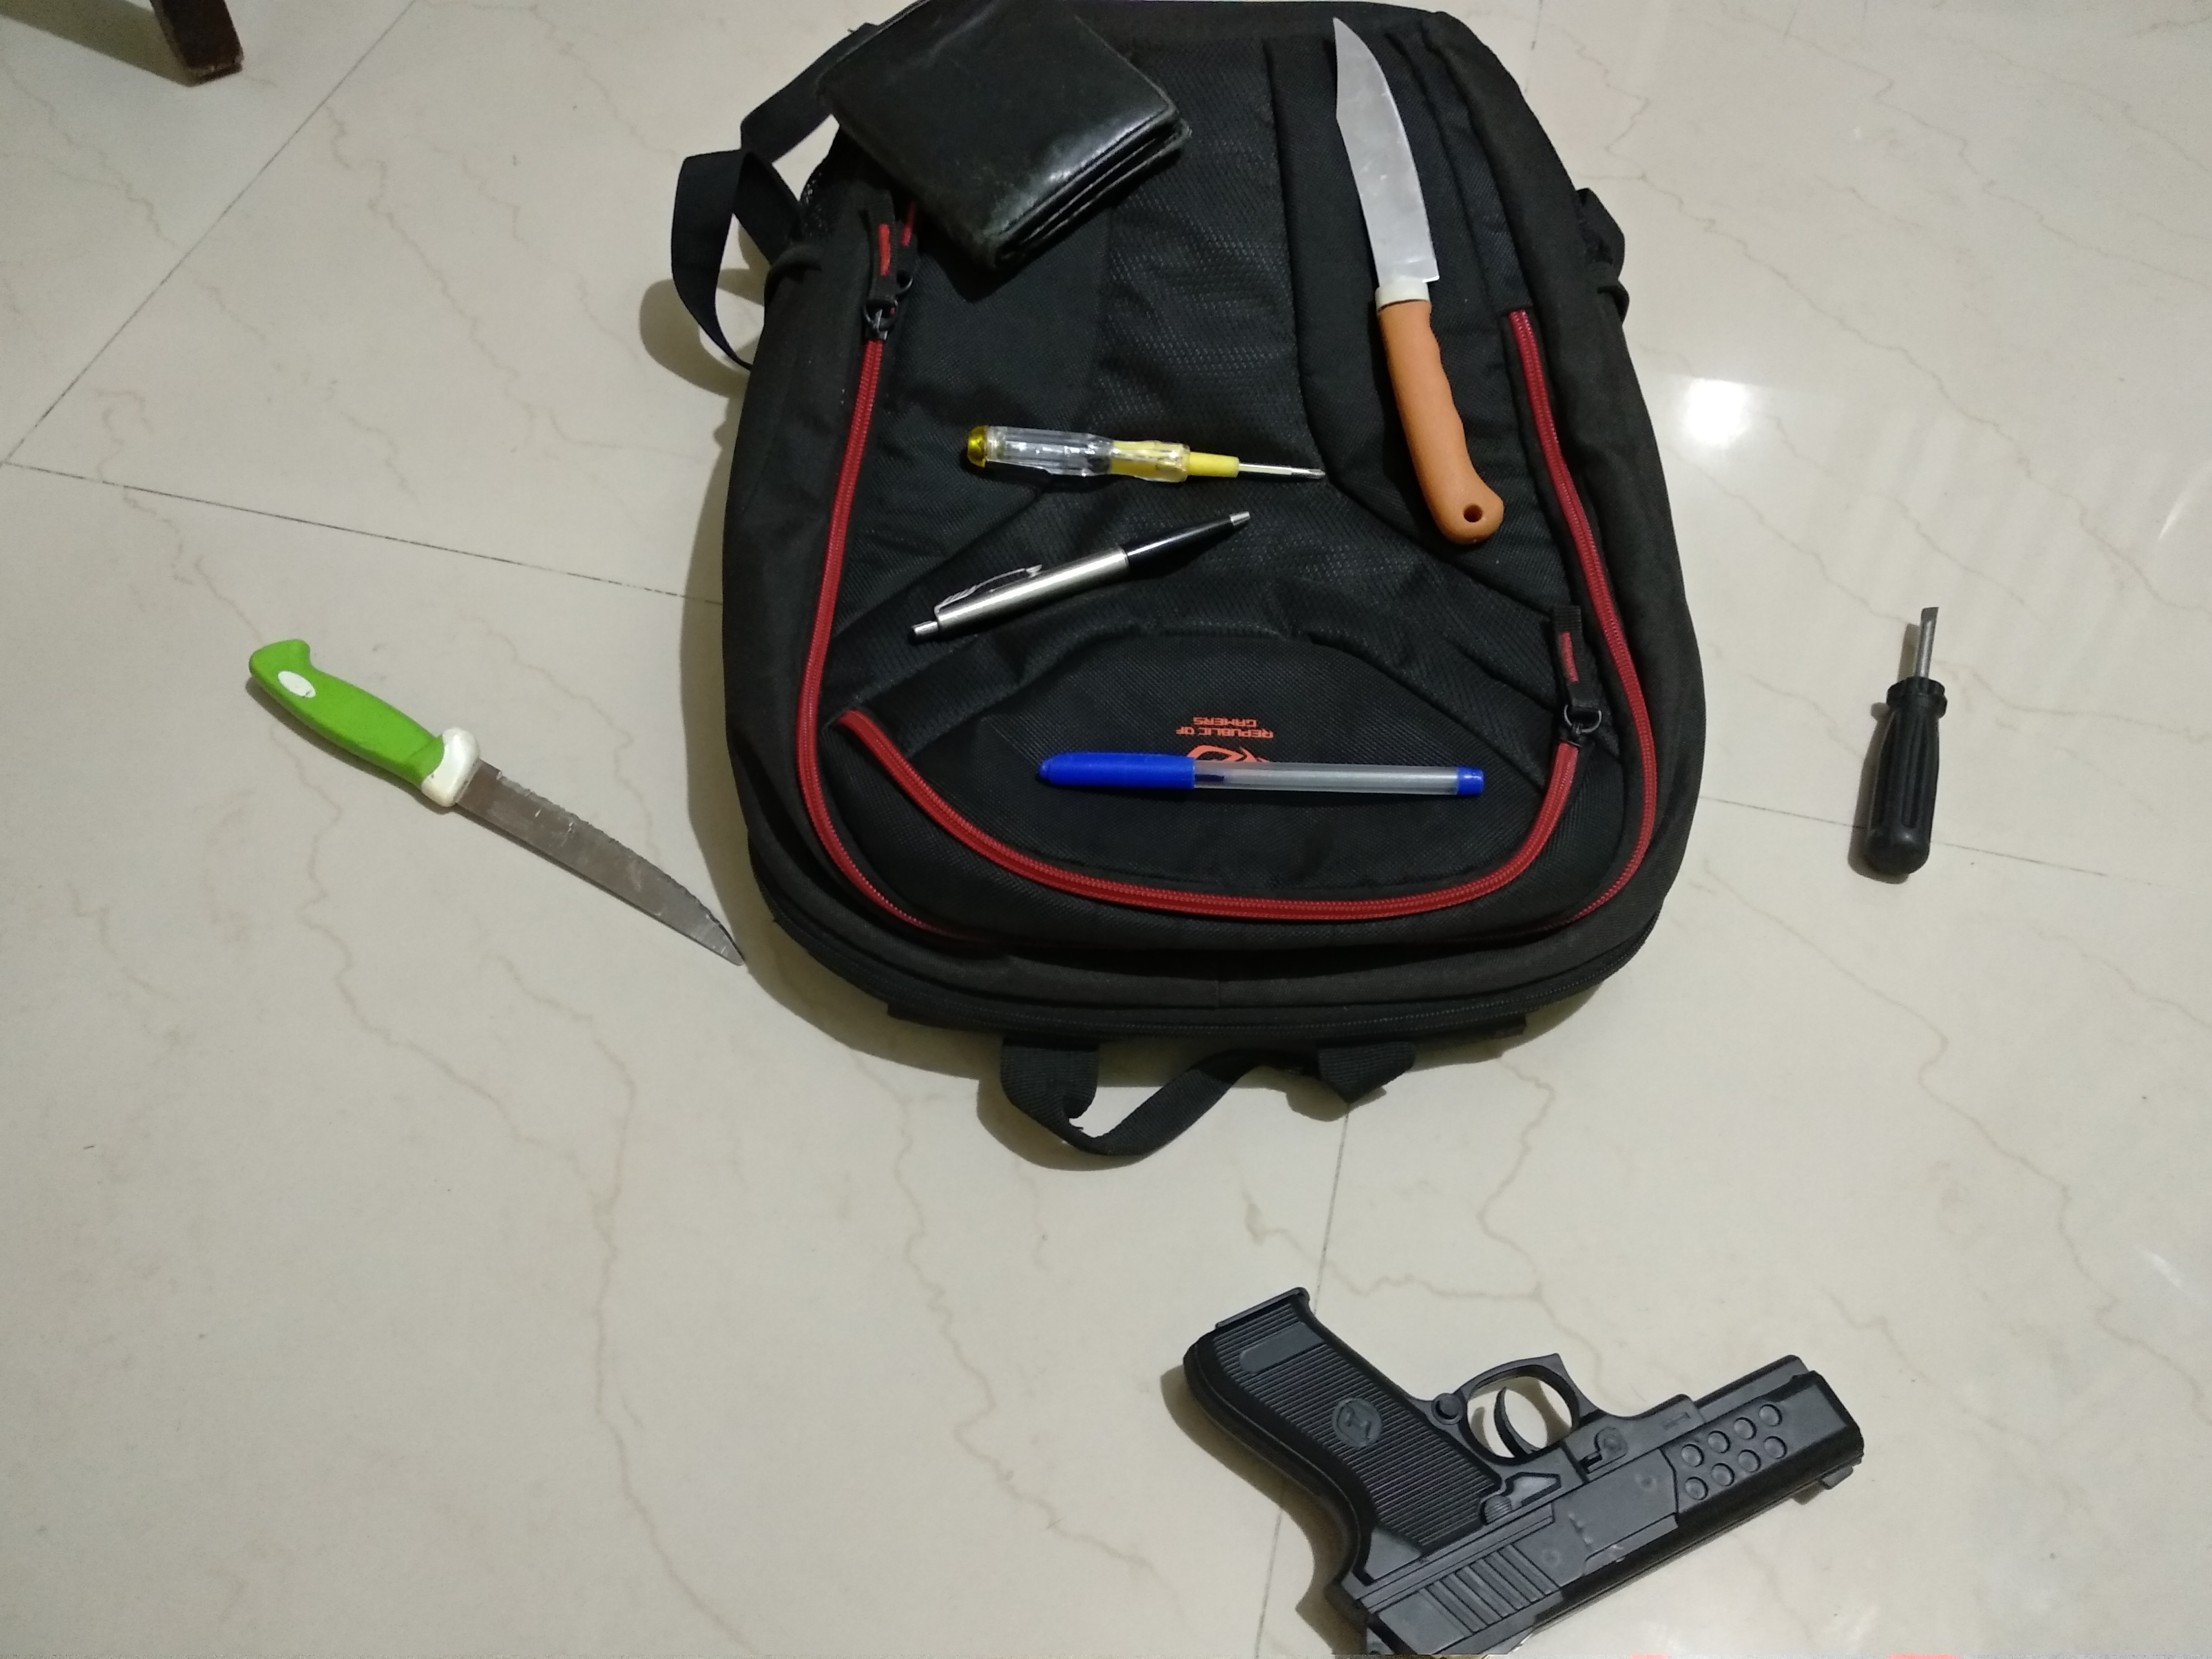gun: (1162, 1263, 1892, 1659)
knife: (230, 643, 751, 988), (1315, 7, 1522, 547)
none: (895, 507, 1261, 652), (1036, 735, 1493, 819)
none2: (833, 0, 1198, 268)
none3: (951, 404, 1348, 500), (1869, 579, 1961, 894)
